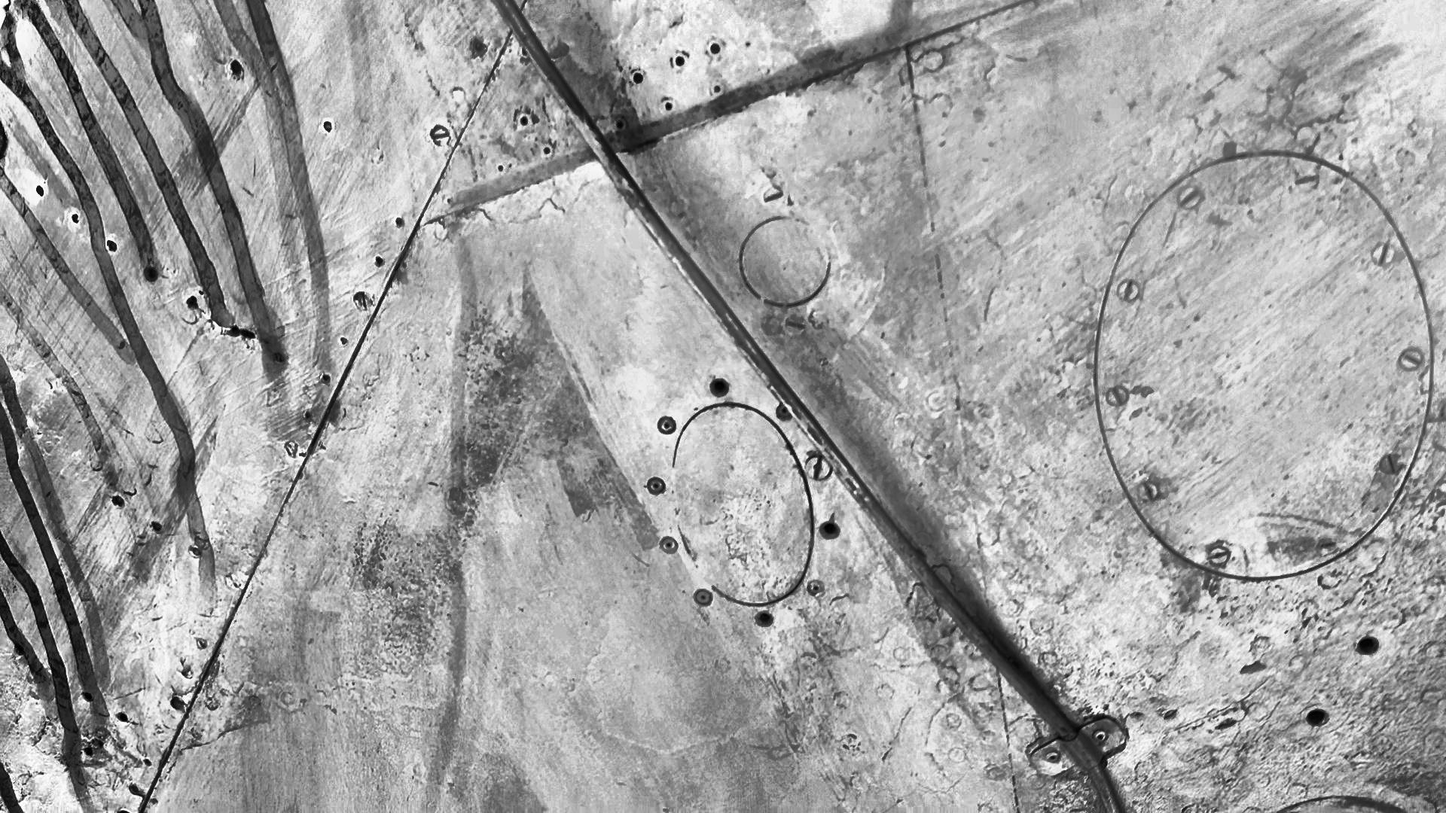crack: (209, 320, 279, 359)
missing-head: (819, 519, 842, 538), (710, 378, 731, 397), (757, 610, 776, 629), (143, 267, 162, 282), (105, 237, 120, 256), (301, 408, 316, 422), (117, 708, 128, 726), (631, 72, 644, 87), (674, 53, 687, 68), (81, 745, 96, 758), (320, 371, 331, 388), (13, 644, 26, 657), (375, 252, 384, 269), (81, 693, 94, 704), (394, 215, 403, 226)
